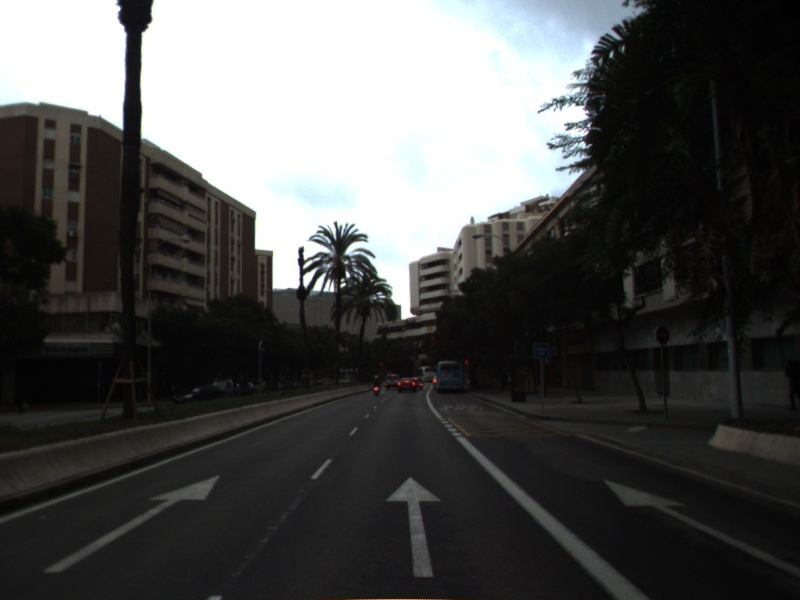STRAIGHT: (599, 476, 800, 575), (40, 470, 225, 576), (382, 473, 446, 579)
